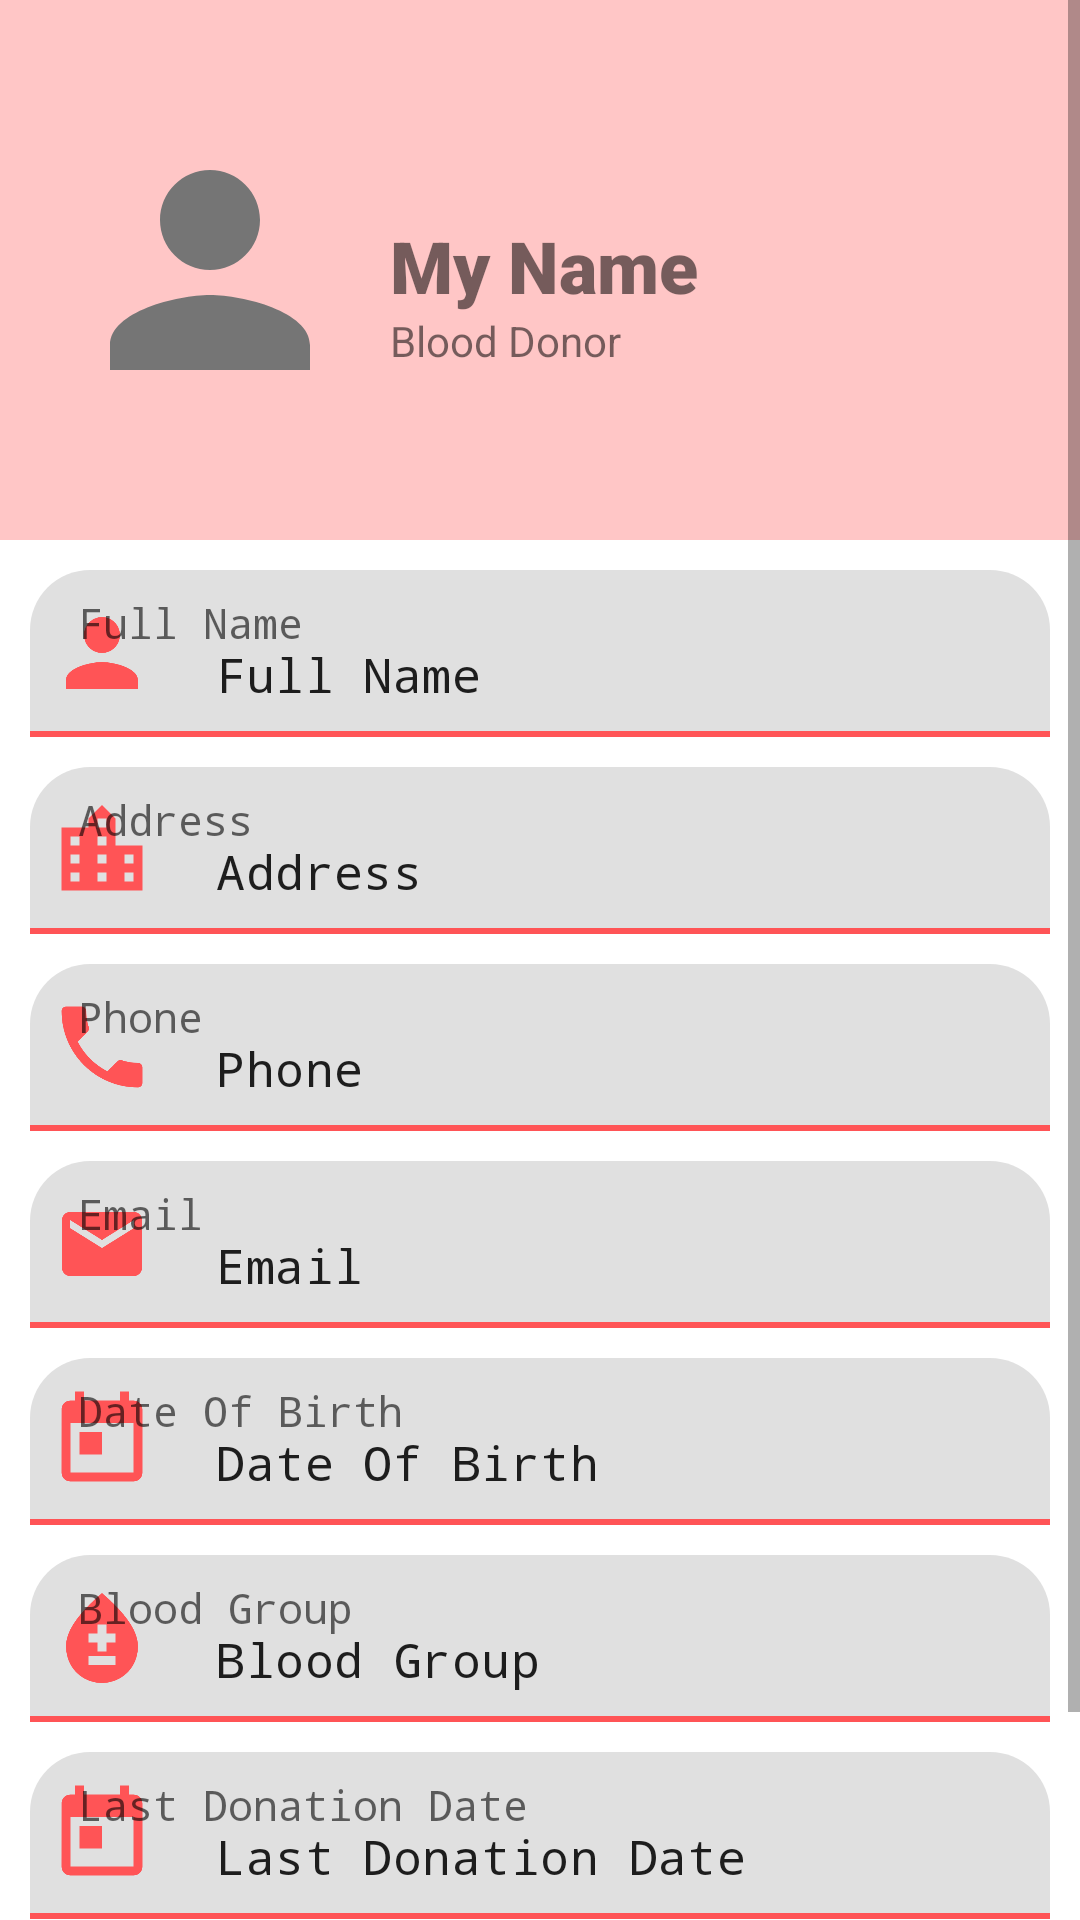

Icons on this 1080 × 1920 Android screen, each with the point to tap as (x=x, y=y):
person: (x=210, y=270)
